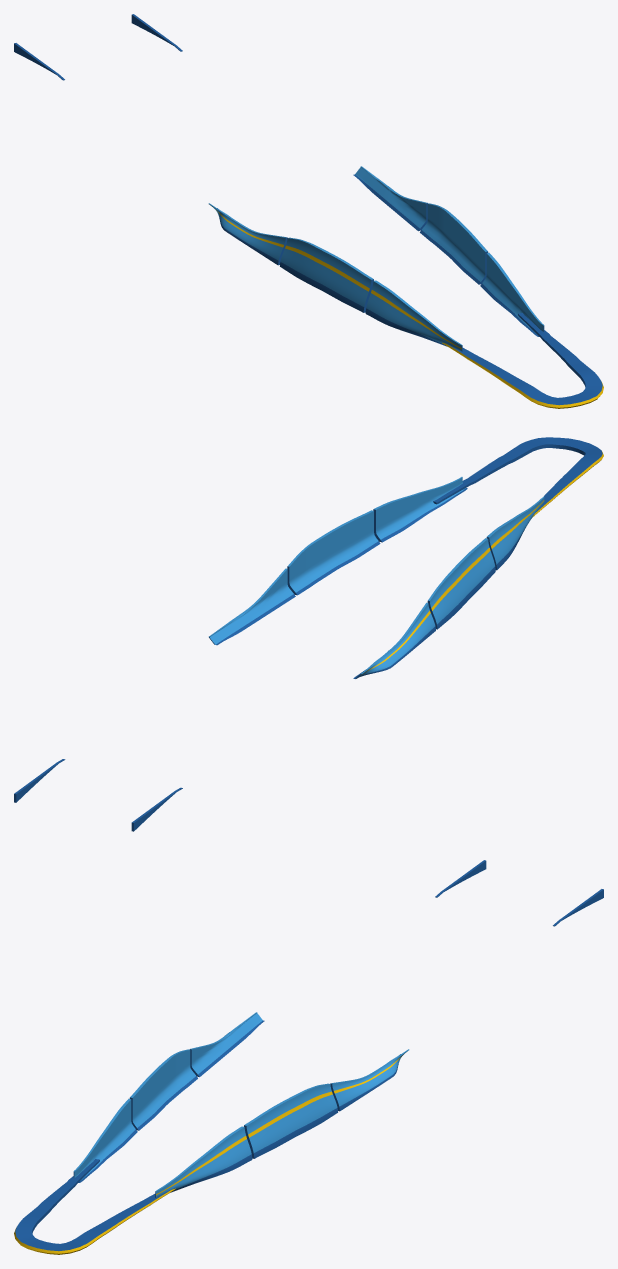
File: strix_armor_guard.fbx
The picture shows the model from 3 angles, top to bottom: view 1: azimuth 30°, elevation 25°; view 2: azimuth 150°, elevation 25°; view 3: azimuth 330°, elevation 25°; orthographic projection.
Parts seen in each view (by area): view 1: Armor_Guard; view 2: Armor_Guard; view 3: Armor_Guard.
Part boxes in pixels (bbox=[...]): Armor_Guard: bbox=[14, 14, 603, 408]; Armor_Guard: bbox=[14, 437, 603, 831]; Armor_Guard: bbox=[14, 860, 603, 1254].
Size of the model in its own units: 122 by 25.1 by 642.
